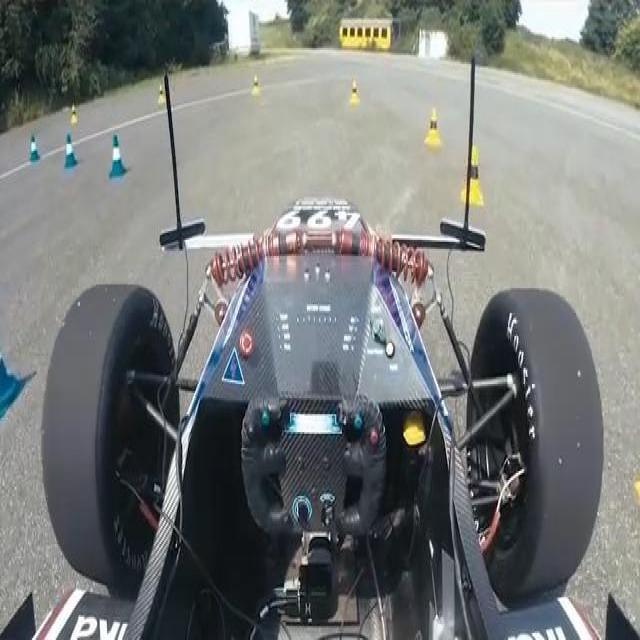blue_cone: (104, 130, 128, 182), (58, 130, 82, 172), (25, 125, 45, 164)
yellow_cone: (462, 139, 492, 205), (420, 103, 449, 156), (345, 73, 364, 105), (249, 71, 260, 99)
